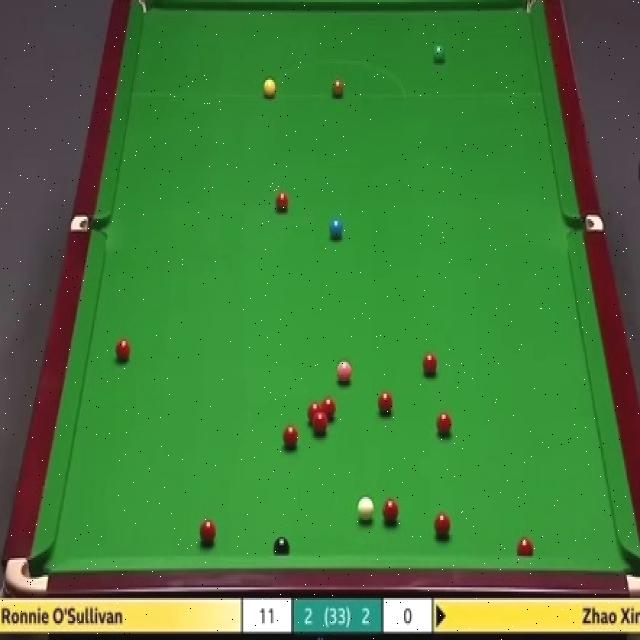black-ball: (273, 536, 292, 558)
blue-ball: (328, 219, 345, 240)
brown-ball: (331, 75, 344, 97)
green-ball: (430, 42, 445, 65)
pink-ball: (336, 361, 353, 387)
red-ball: (374, 388, 393, 416), (198, 518, 216, 546), (422, 351, 439, 378), (382, 500, 399, 526), (273, 189, 290, 215), (433, 514, 451, 538), (436, 412, 451, 440), (283, 424, 299, 450), (115, 338, 131, 364), (307, 402, 322, 428), (517, 536, 534, 556), (322, 398, 336, 422), (313, 416, 329, 436)
white-ball: (358, 498, 373, 524)
yellow-ball: (262, 79, 277, 98)
